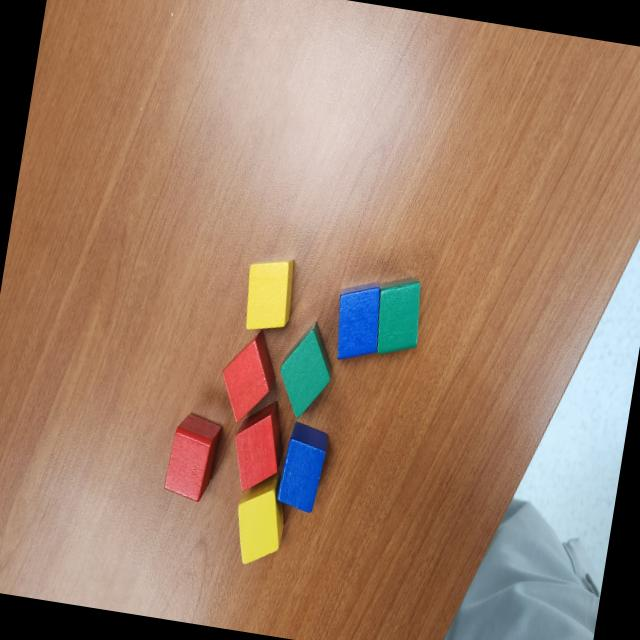blue: (274, 420, 332, 514), (330, 277, 387, 366)
green: (272, 316, 340, 423), (370, 272, 428, 362)
red: (214, 326, 284, 430), (227, 396, 290, 496), (162, 410, 225, 505)
yellow: (228, 466, 292, 570), (240, 252, 300, 336)
